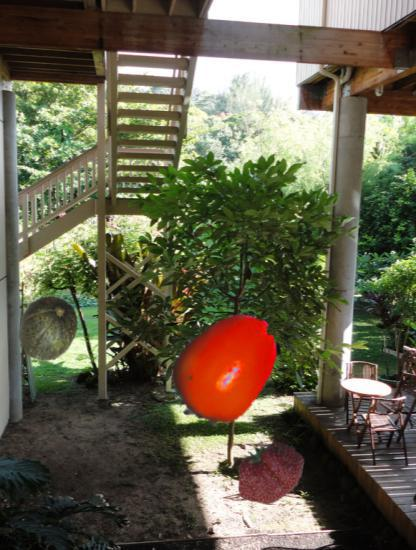Kaki: (163, 306, 287, 430)
Melon: (17, 296, 82, 361)
Strawberry: (233, 437, 305, 509)
